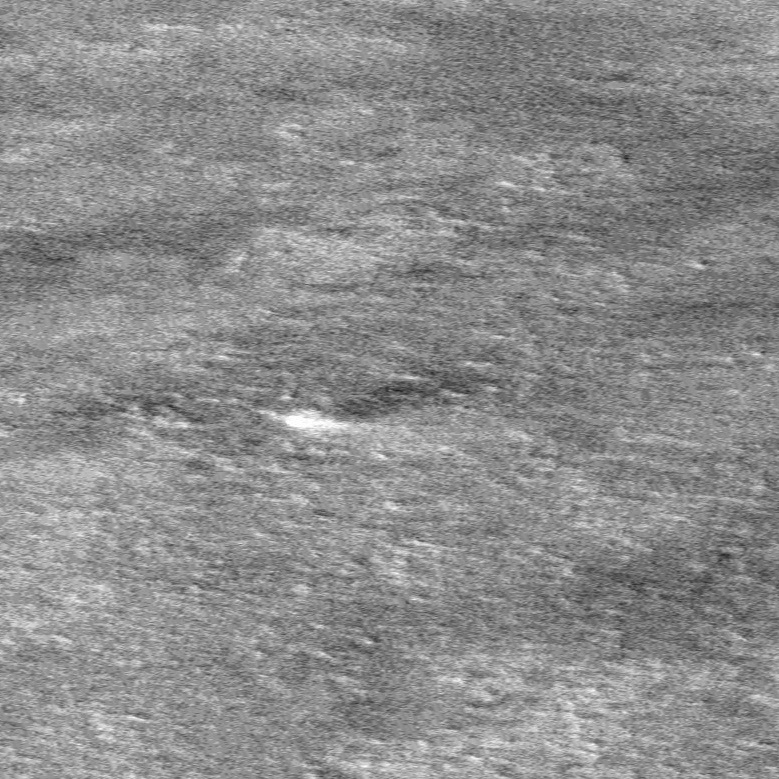dust_devil: (280, 373, 434, 435)
